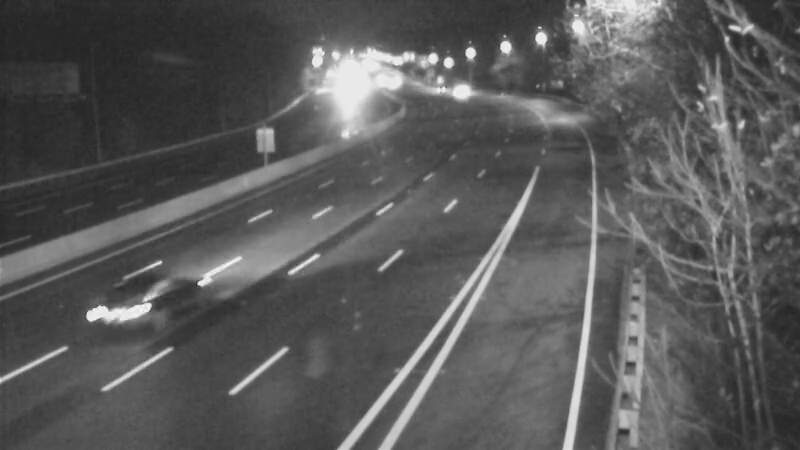vehicle: (65, 254, 175, 364), (417, 62, 467, 112), (439, 67, 489, 117)
